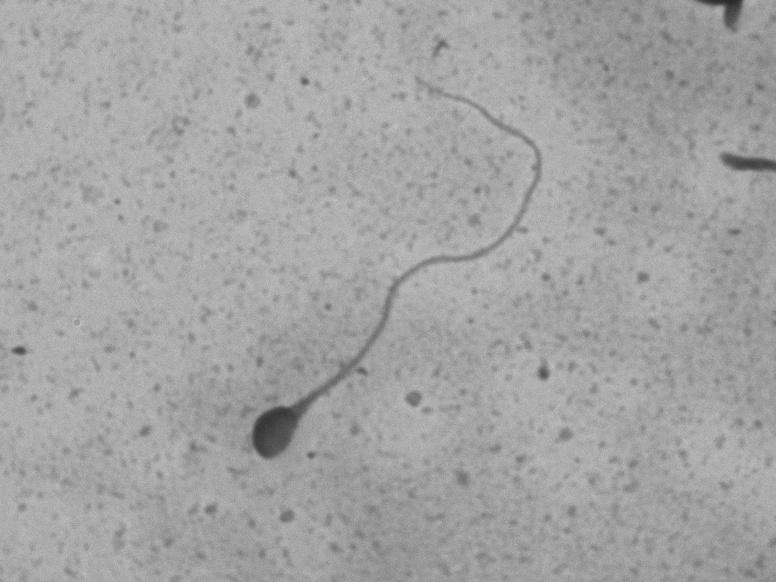Abnormal: (220, 65, 584, 479)
